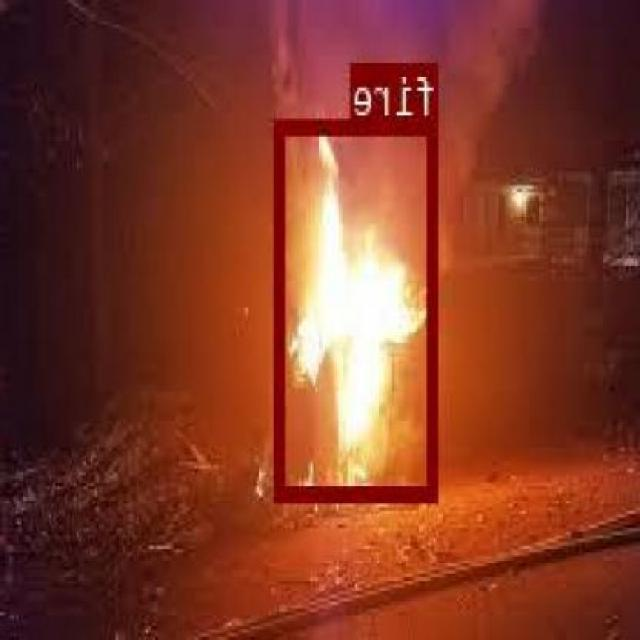Fire: (278, 118, 440, 498)
